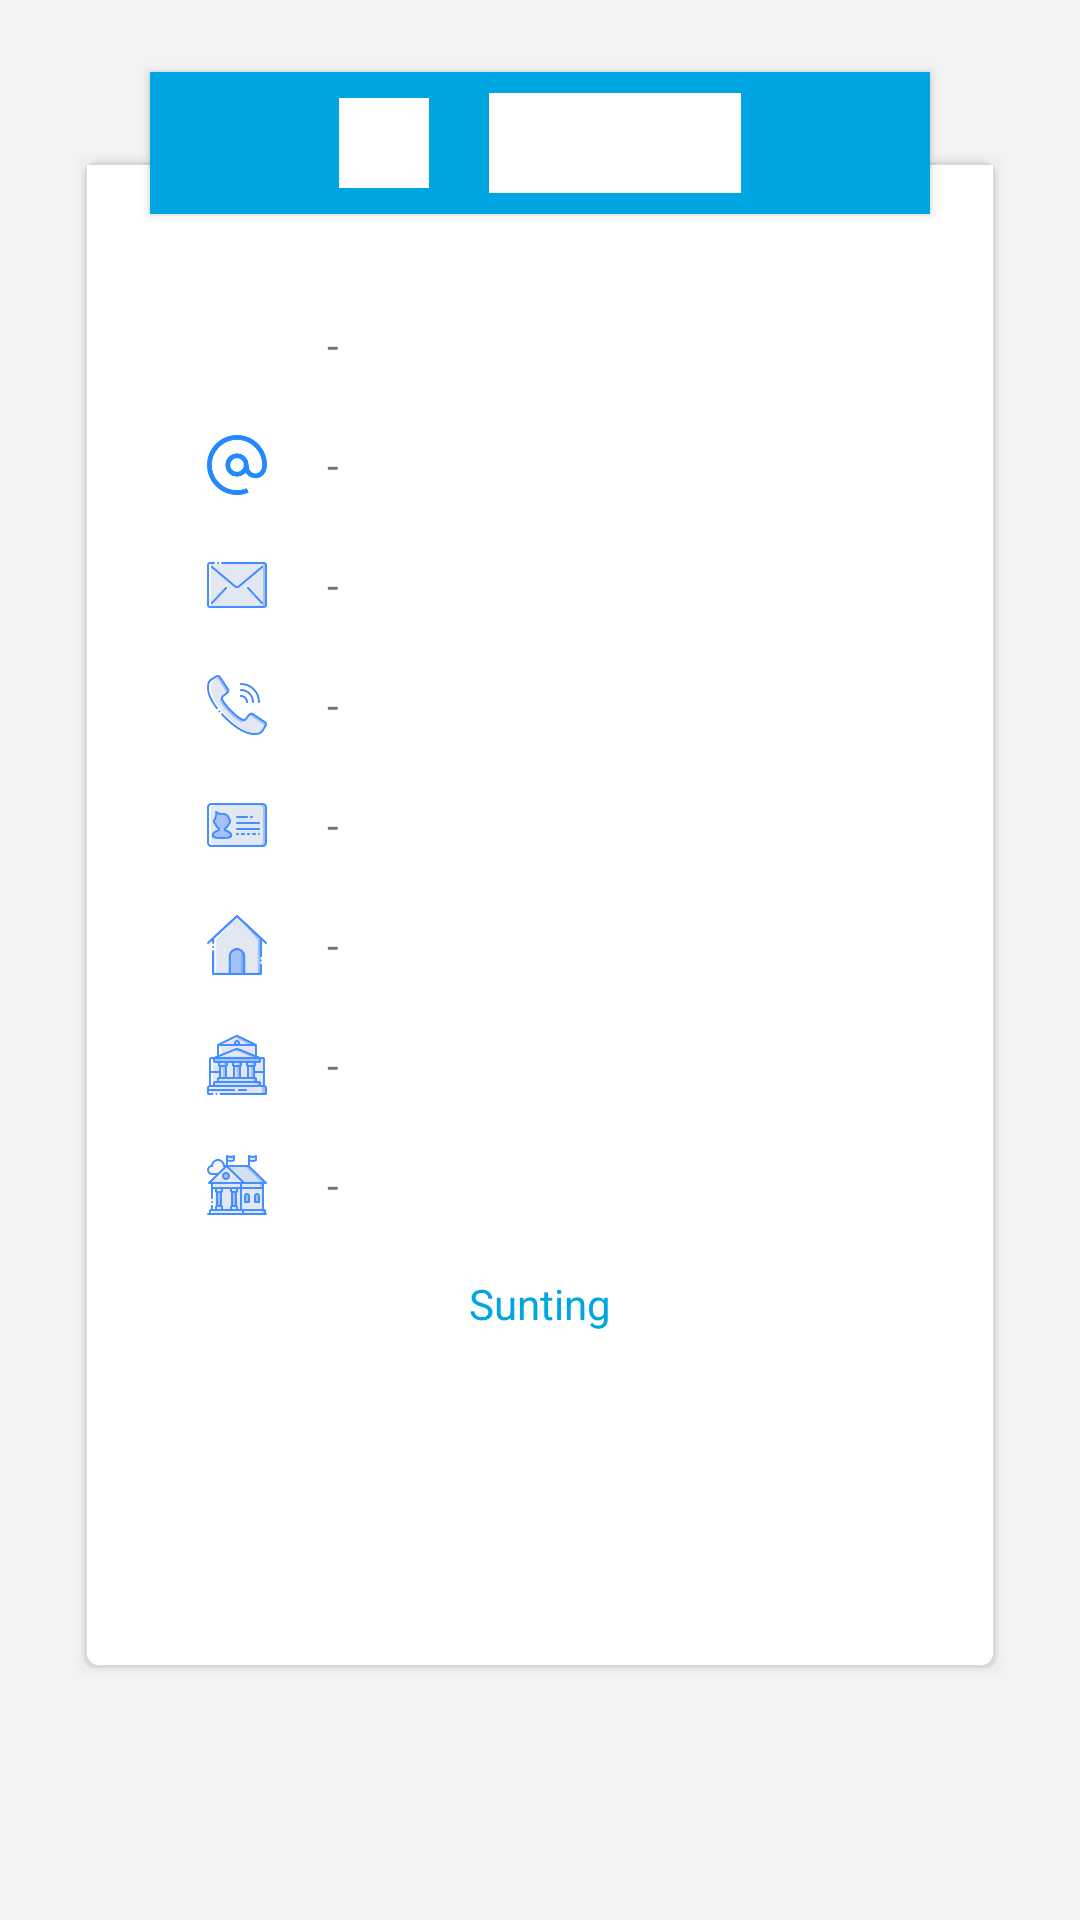

Point at icon controls on the screen. Image size 1080 × 1920, points as (x,y).
address: (237,945)
city: (237,1185)
email: (237,585)
phone: (237,705)
province: (237,1065)
username: (237,465)
